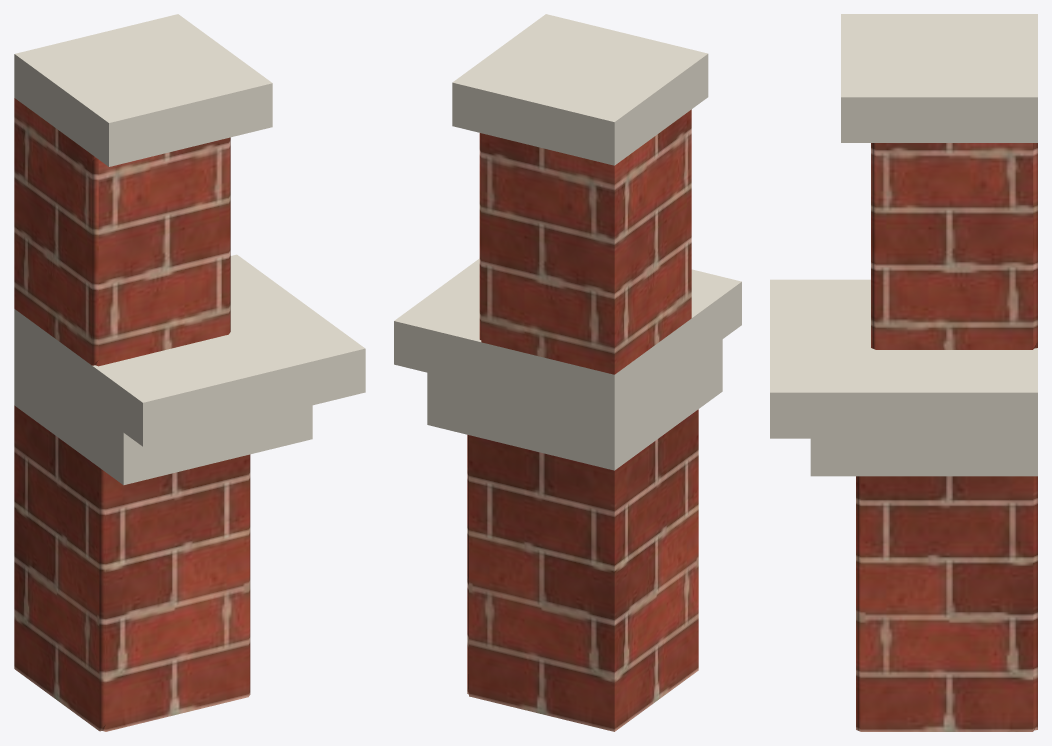
File: cornice_parapet_corner.glb
3 renders of one model, left to right at view 1: azimuth 30°, elevation 25°; view 2: azimuth 150°, elevation 25°; view 3: azimuth 270°, elevation 25°, orthographic. The views are drawn at different scales.
Visible parts, largest first — view 1: cornice_parapet_corner_brick, cornice_parapet_corner_trim; view 2: cornice_parapet_corner_brick, cornice_parapet_corner_trim; view 3: cornice_parapet_corner_brick, cornice_parapet_corner_trim.
Boxes of the visible parts, x1,y1,x2,y2 form: cornice_parapet_corner_brick: (14,98,250,731); cornice_parapet_corner_trim: (14,14,365,485); cornice_parapet_corner_brick: (467,109,698,731); cornice_parapet_corner_trim: (394,14,741,470); cornice_parapet_corner_brick: (856,143,1037,731); cornice_parapet_corner_trim: (770,14,1037,476).
Bounding box in the file's own units: 0.53 × 1.4 × 0.53.
2 materials, 1 textured.
